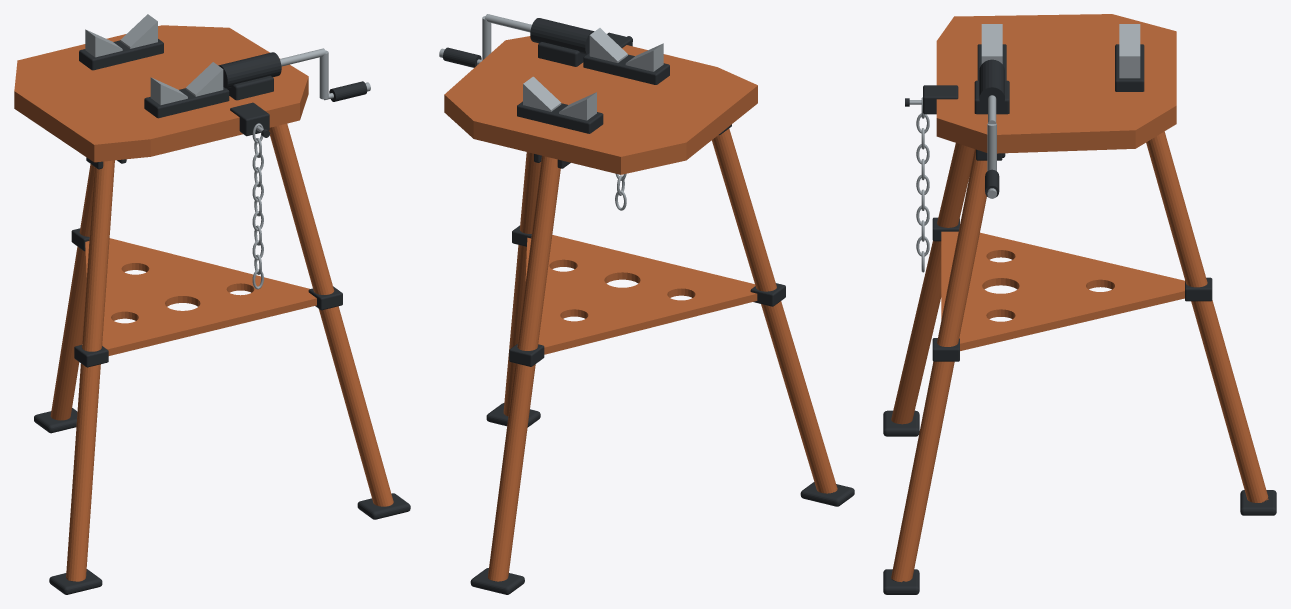
The model's file is A-NEW-20261026-TRIPOD-PIPE-VISE-001_LOD0_R3.glb.
3 views of the same model, side by side, from view 1: azimuth 30°, elevation 25°; view 2: azimuth 150°, elevation 25°; view 3: azimuth 270°, elevation 25° (orthographic). The views are drawn at different scales.
Parts seen in each view (by area): view 1: irregular work table, triangular open tool tray, hollow tubular leg 0, hollow tubular leg 1, hollow tubular leg 2, clamp crank bearing, V jaw pedestal, V jaw pedestal.001, chain anchor table bracket, raised V pipe jaw.001, raised V pipe jaw.003, flat leg ground foot 1 (+6 smaller); view 2: irregular work table, triangular open tool tray, hollow tubular leg 2, hollow tubular leg 0, hollow tubular leg 1, clamp crank bearing, V jaw pedestal, V jaw pedestal.001, raised V pipe jaw.001, raised V pipe jaw.003, flat leg ground foot 2, crank housing table mount (+4 smaller); view 3: irregular work table, triangular open tool tray, hollow tubular leg 1, hollow tubular leg 2, hollow tubular leg 0, clamp crank bearing, V jaw pedestal.001, chain anchor table bracket, raised V pipe jaw, raised V pipe jaw.002, flat leg ground foot 0, flat leg ground foot 1 (+2 smaller).
Part boxes in pixels (box(x1,y1,x2,y2)): irregular work table: box(14, 25, 308, 162); triangular open tool tray: box(85, 238, 316, 355); hollow tubular leg 0: box(66, 160, 114, 581); hollow tubular leg 1: box(269, 123, 393, 506); hollow tubular leg 2: box(50, 164, 94, 420); clamp crank bearing: box(218, 52, 281, 88); V jaw pedestal: box(144, 87, 229, 118); V jaw pedestal.001: box(79, 39, 163, 70); chain anchor table bracket: box(230, 102, 269, 136); raised V pipe jaw.001: box(185, 62, 223, 96); raised V pipe jaw.003: box(120, 14, 157, 48); flat leg ground foot 1: box(357, 493, 410, 519); irregular work table: box(444, 36, 757, 174); triangular open tool tray: box(525, 235, 757, 354); hollow tubular leg 2: box(488, 155, 560, 581); hollow tubular leg 0: box(712, 128, 837, 493); hollow tubular leg 1: box(503, 152, 540, 416); clamp crank bearing: box(530, 18, 594, 54); V jaw pedestal: box(583, 53, 669, 84); V jaw pedestal.001: box(517, 101, 603, 133); raised V pipe jaw.001: box(589, 28, 627, 62); raised V pipe jaw.003: box(523, 76, 561, 111); flat leg ground foot 2: box(470, 568, 524, 594); crank housing table mount: box(538, 42, 585, 66); irregular work table: box(936, 14, 1176, 153); triangular open tool tray: box(941, 231, 1184, 350); hollow tubular leg 1: box(891, 149, 987, 582); hollow tubular leg 2: box(1146, 131, 1268, 502); hollow tubular leg 0: box(891, 143, 974, 424); clamp crank bearing: box(979, 59, 1004, 109); V jaw pedestal.001: box(1115, 44, 1144, 91); chain anchor table bracket: box(923, 85, 958, 114); raised V pipe jaw: box(981, 24, 1002, 56); raised V pipe jaw.002: box(1119, 24, 1140, 56); flat leg ground foot 0: box(883, 410, 919, 436); flat leg ground foot 1: box(883, 569, 919, 594).
Size of the model in its own units: 0.7375 by 0.88 by 0.672.
